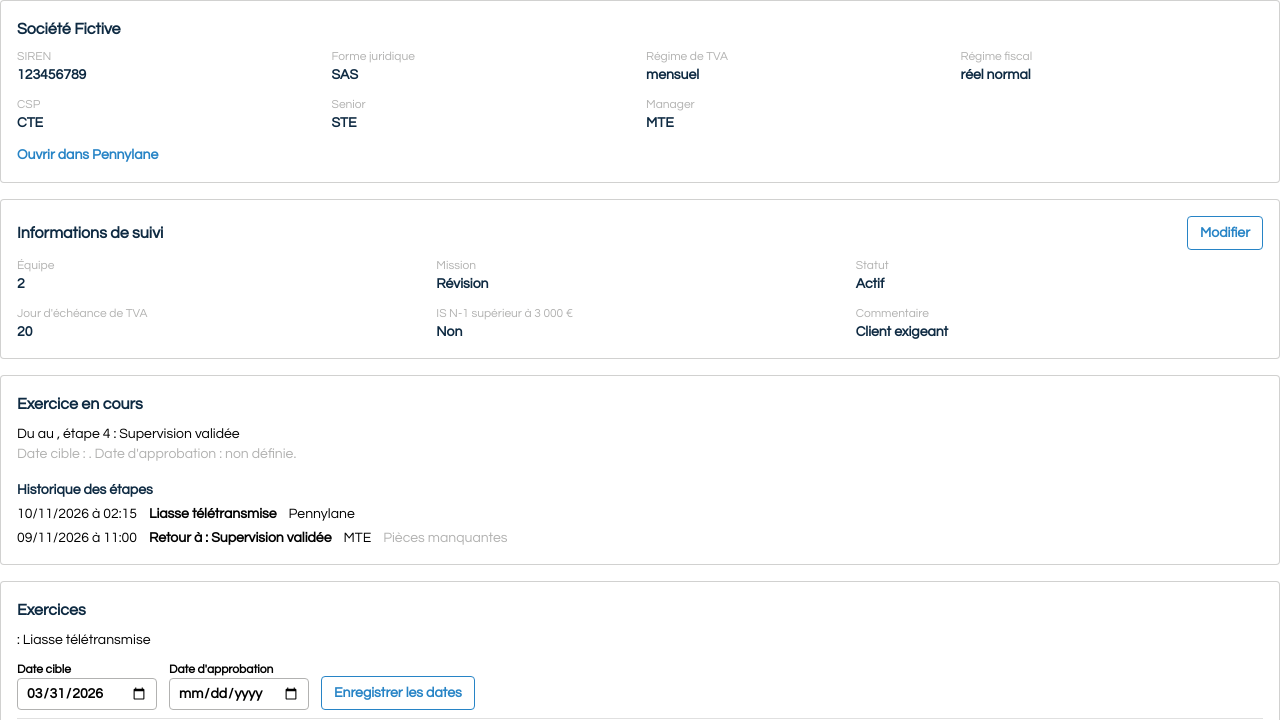
Test: affiche l'erreur de la fonction SQL
The image size is (1280, 720).
Click the button "Modifier".
click(1225, 233)  # box left=1187, top=216, right=1263, bottom=250
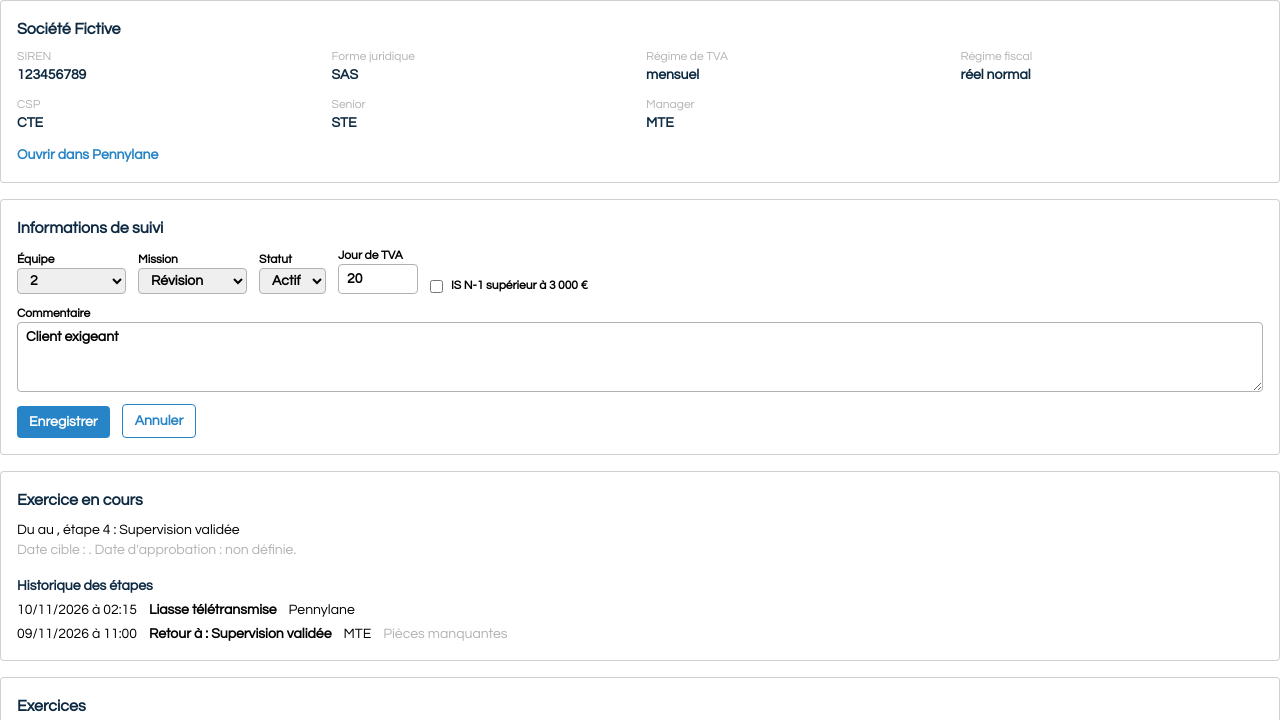
Click the button "Enregistrer".
click(63, 422)  # box left=17, top=406, right=110, bottom=438
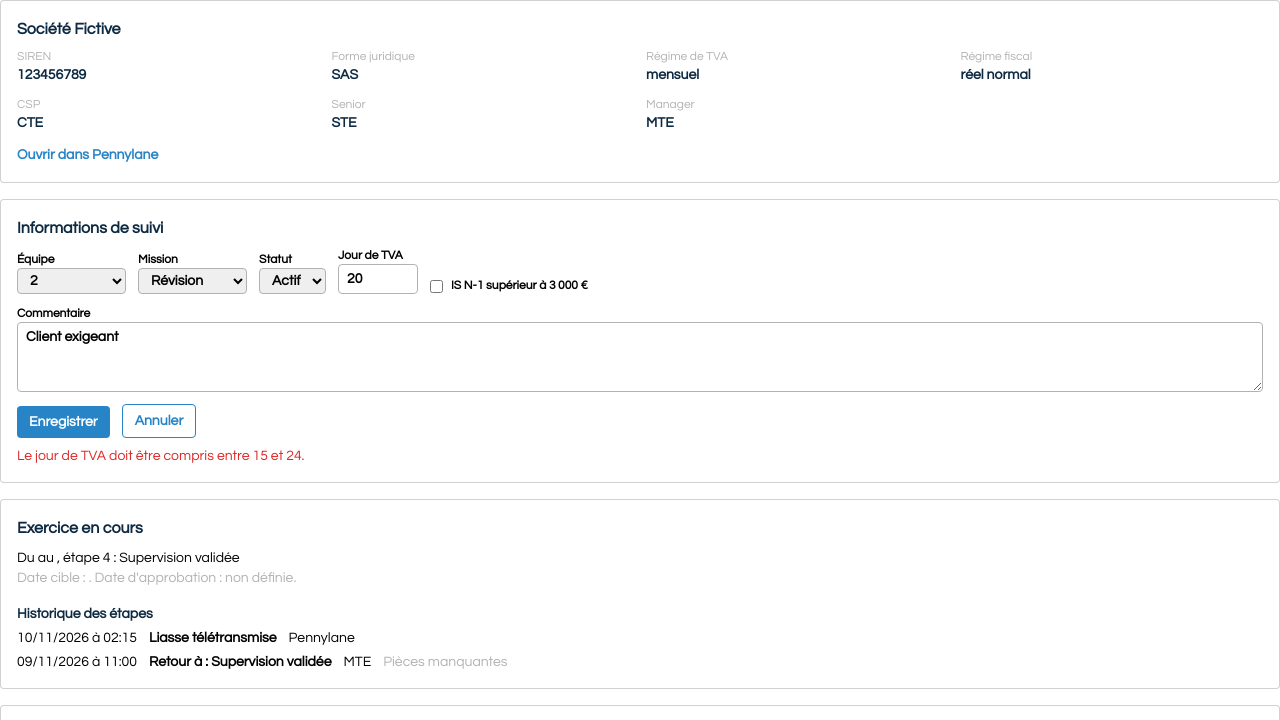
Now the message reads "Le jour de TVA doit être compris entre 15 et 24.", box left=17, top=449, right=304, bottom=463
